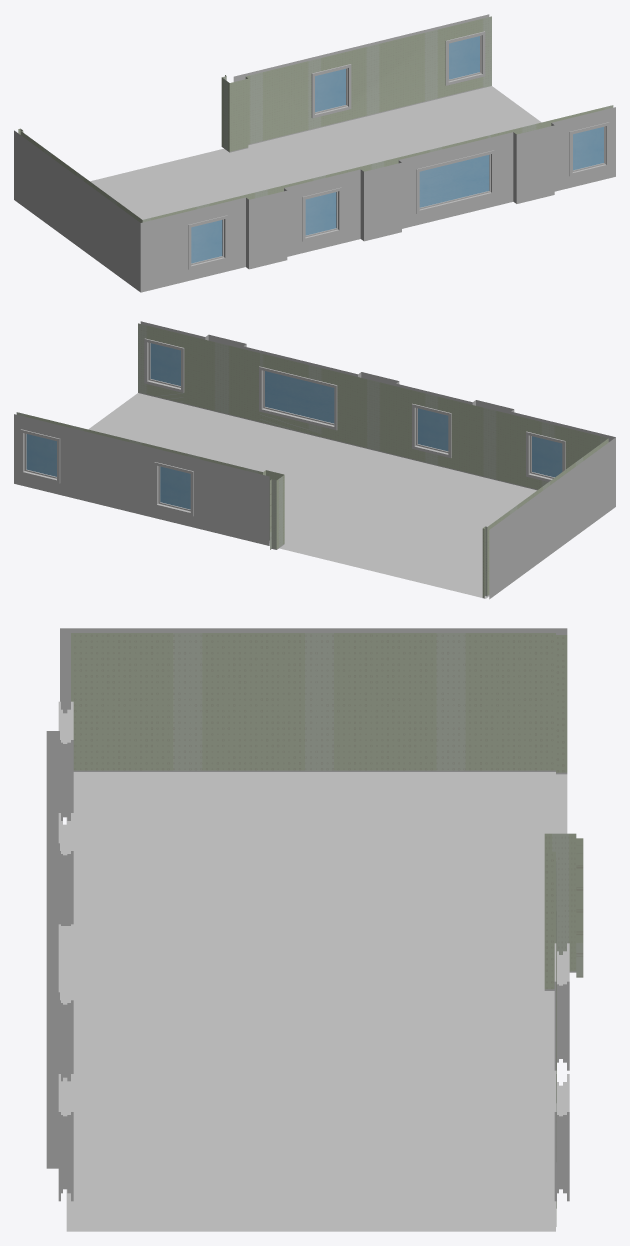
Rendered from FloorFirst_C.fbx.
The picture shows the model from 3 angles, top to bottom: view 1: azimuth 30°, elevation 25°; view 2: azimuth 150°, elevation 25°; view 3: azimuth 270°, elevation 25°; orthographic projection. The views are drawn at different scales.
Visible parts, largest first — view 1: Floor_00_C (2); view 2: Floor_00_C (2); view 3: Floor_00_C (2).
Part boxes in pixels (x1,y1,x2,y2): Floor_00_C (2): (14,14,615,292); Floor_00_C (2): (14,321,615,599); Floor_00_C (2): (46,628,583,1231).
Bounding box in the file's own units: 2488 × 348 × 1216.
